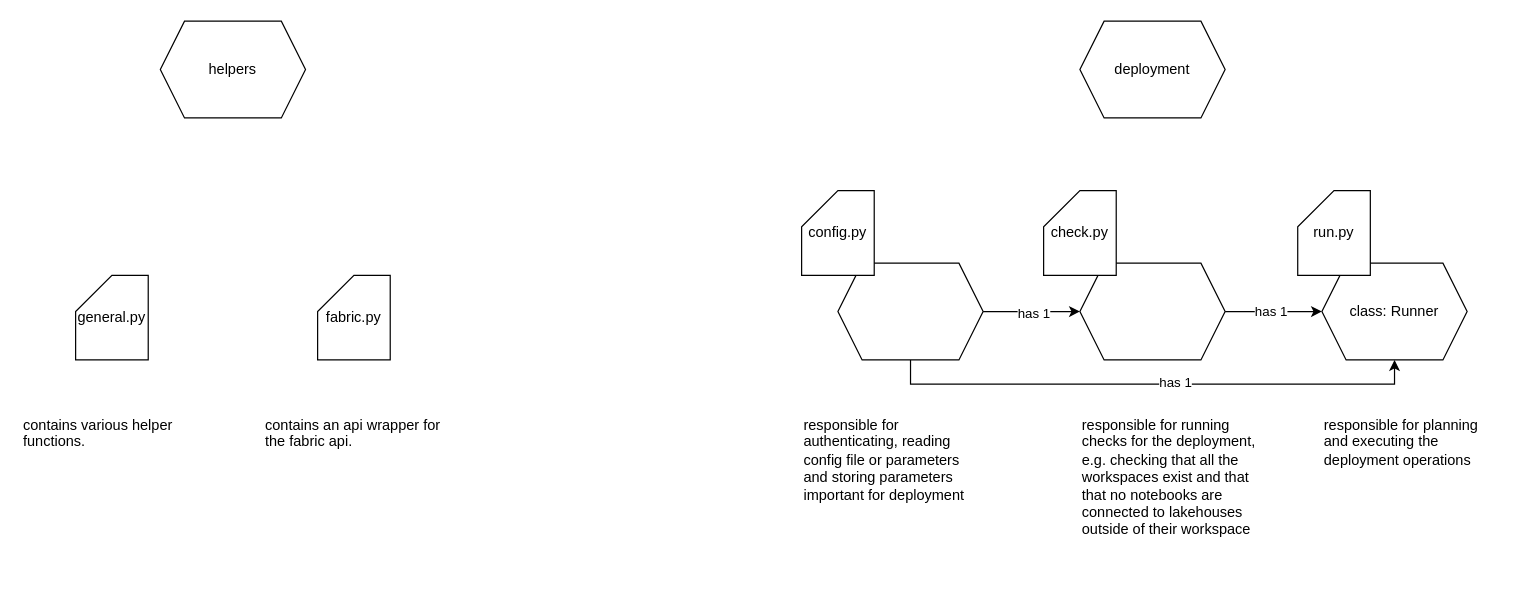
Image size: 1526x611. Some labels were removed from this diagram. The centre of each missing label's shape, as x and y in pixels:
"class: Checker" belongs at (1152,311).
"class: Config" belongs at (910,311).
